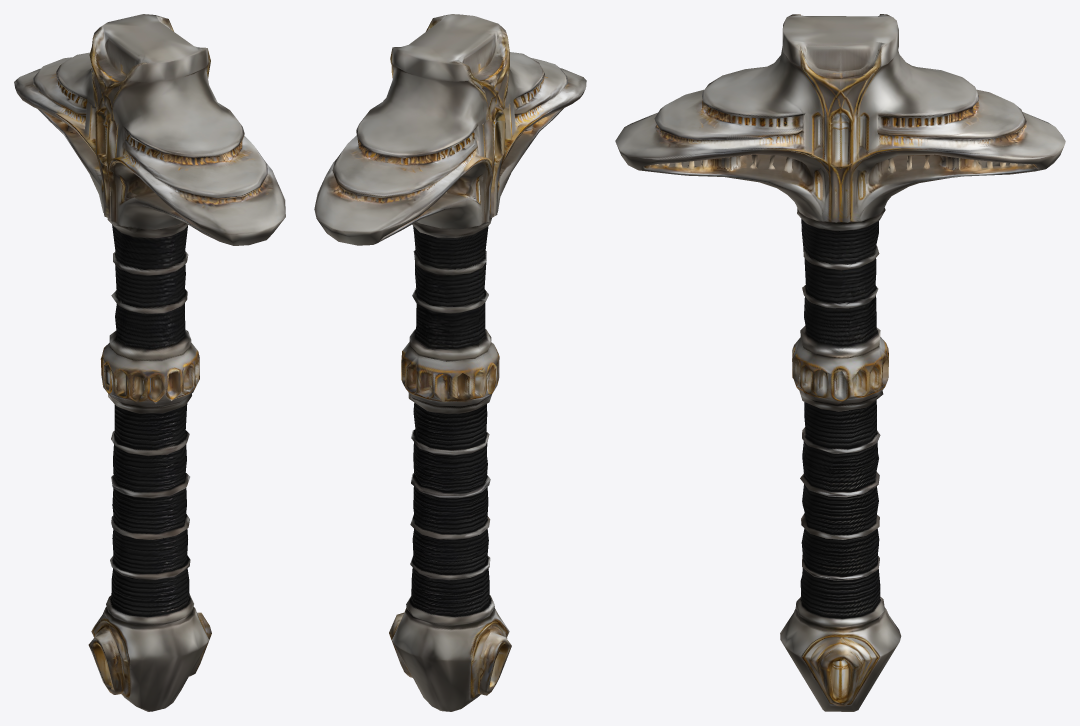
Rendered from hilt_oathbreaker.glb.
The picture shows the model from 3 angles, left to right: view 1: azimuth 30°, elevation 25°; view 2: azimuth 150°, elevation 25°; view 3: azimuth 270°, elevation 25°; orthographic projection. The views are drawn at different scales.
Parts seen in each view (by area): view 1: tripo_node_81a5c68d-0d99-4c2c-b71d-2cd78fb7aa7c; view 2: tripo_node_81a5c68d-0d99-4c2c-b71d-2cd78fb7aa7c; view 3: tripo_node_81a5c68d-0d99-4c2c-b71d-2cd78fb7aa7c.
Boxes of the visible parts, x1=… form: tripo_node_81a5c68d-0d99-4c2c-b71d-2cd78fb7aa7c: x1=14, y1=14, x2=285, y2=711; tripo_node_81a5c68d-0d99-4c2c-b71d-2cd78fb7aa7c: x1=314, y1=14, x2=586, y2=711; tripo_node_81a5c68d-0d99-4c2c-b71d-2cd78fb7aa7c: x1=615, y1=14, x2=1065, y2=711.
Bounding box in the file's own units: 0.174 × 1 × 0.5997.
1 material, 1 textured.
